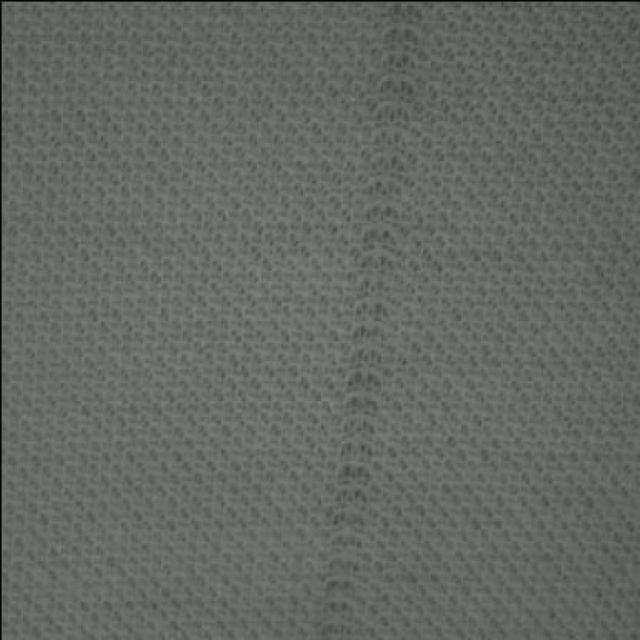Line: (315, 4, 417, 637)
